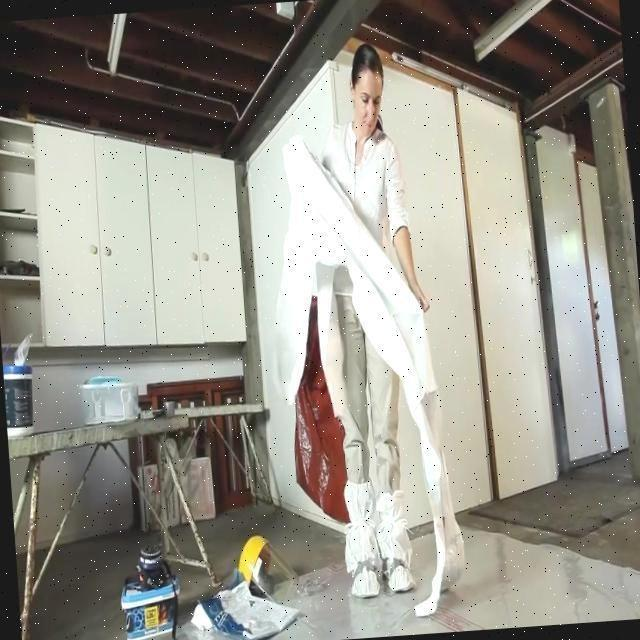no_gloves: (347, 41, 385, 80)
